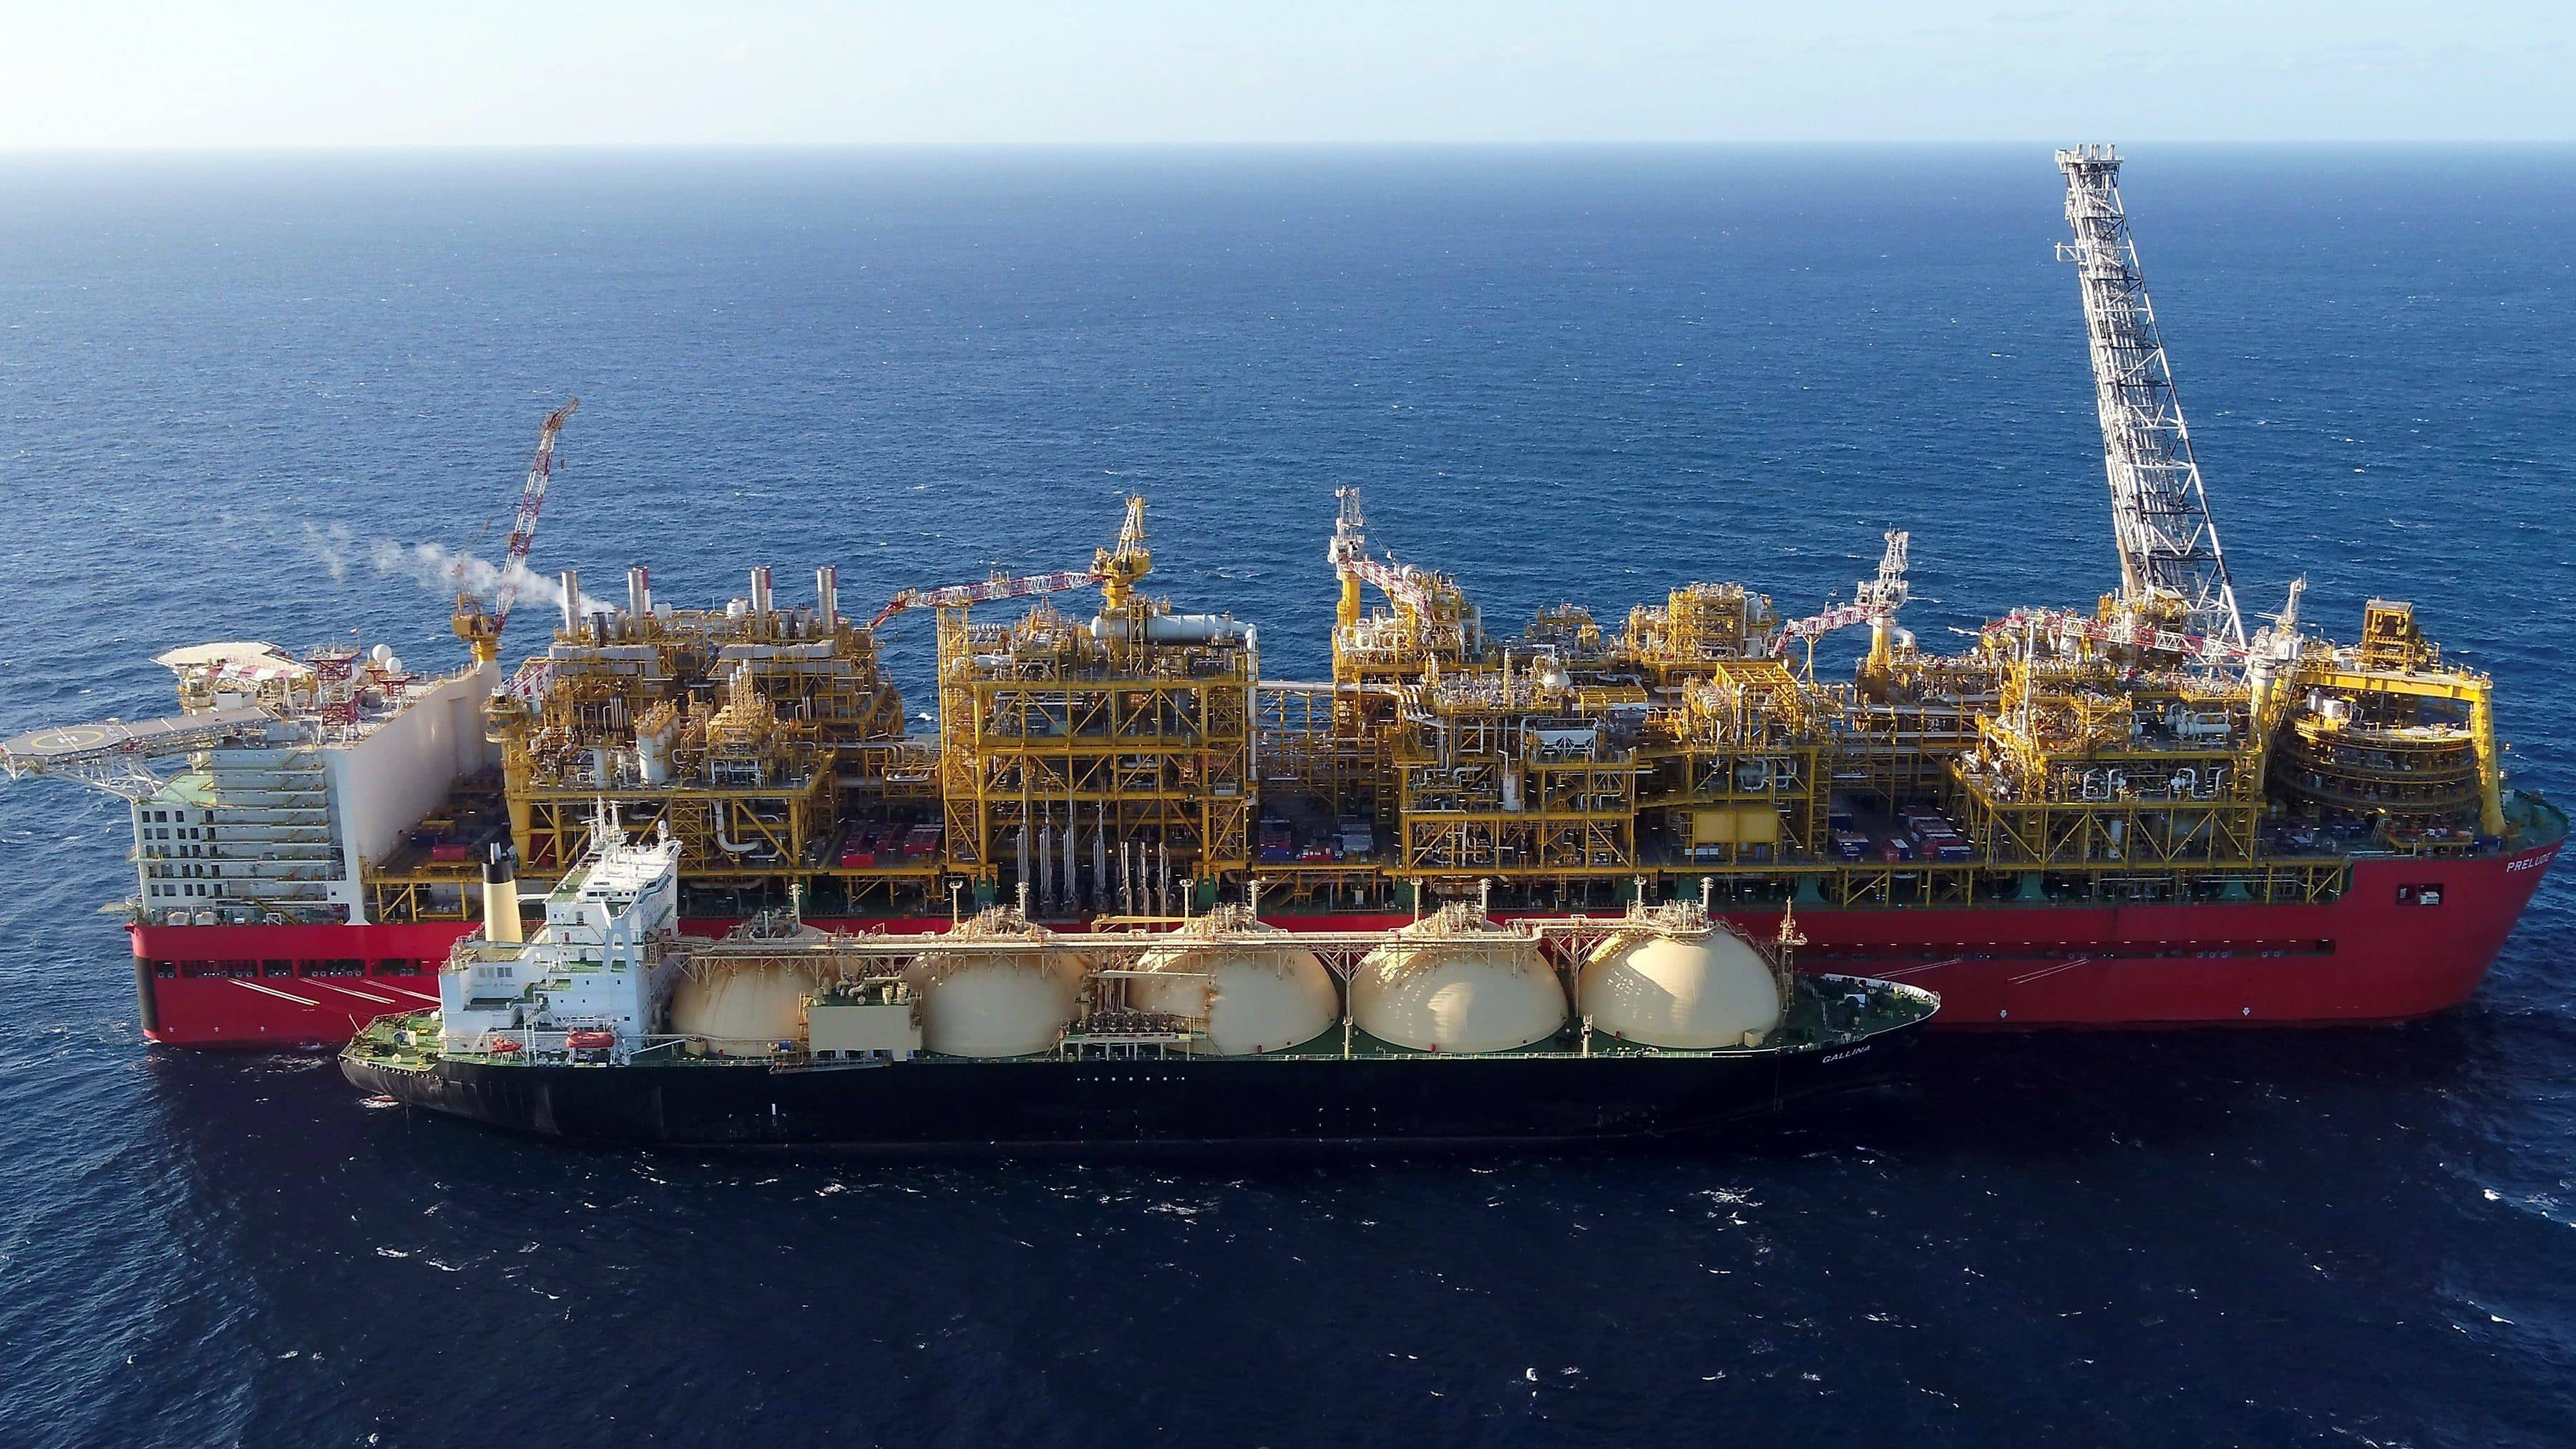Cargoship: (117, 405, 2565, 1053), (341, 816, 1966, 1131)
